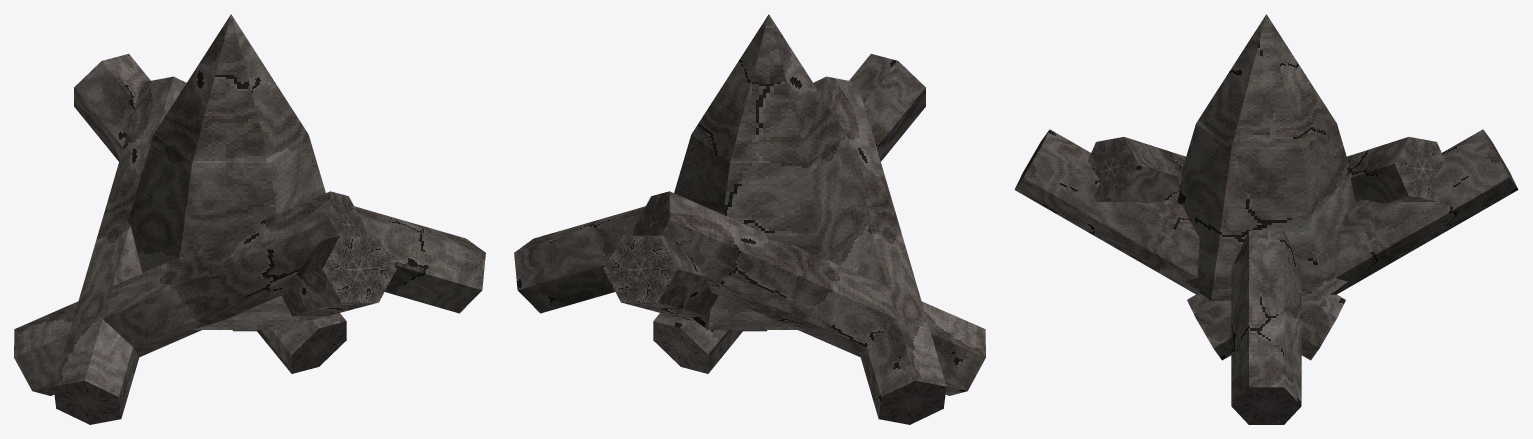
Rendered from fogueira_apagada.glb.
The picture shows the model from 3 angles, left to right: view 1: azimuth 30°, elevation 25°; view 2: azimuth 150°, elevation 25°; view 3: azimuth 270°, elevation 25°; orthographic projection. The views are drawn at different scales.
Visible parts, largest first — view 1: fogueira_apagada; view 2: fogueira_apagada; view 3: fogueira_apagada.
Boxes of the visible parts, x1,y1,x2,y2 form: fogueira_apagada: (14, 14, 485, 424); fogueira_apagada: (514, 14, 985, 424); fogueira_apagada: (1014, 14, 1518, 424).
Size of the model in its own units: 0.9215 by 0.7112 by 1.
Materials: 1 (1 with a texture image).
